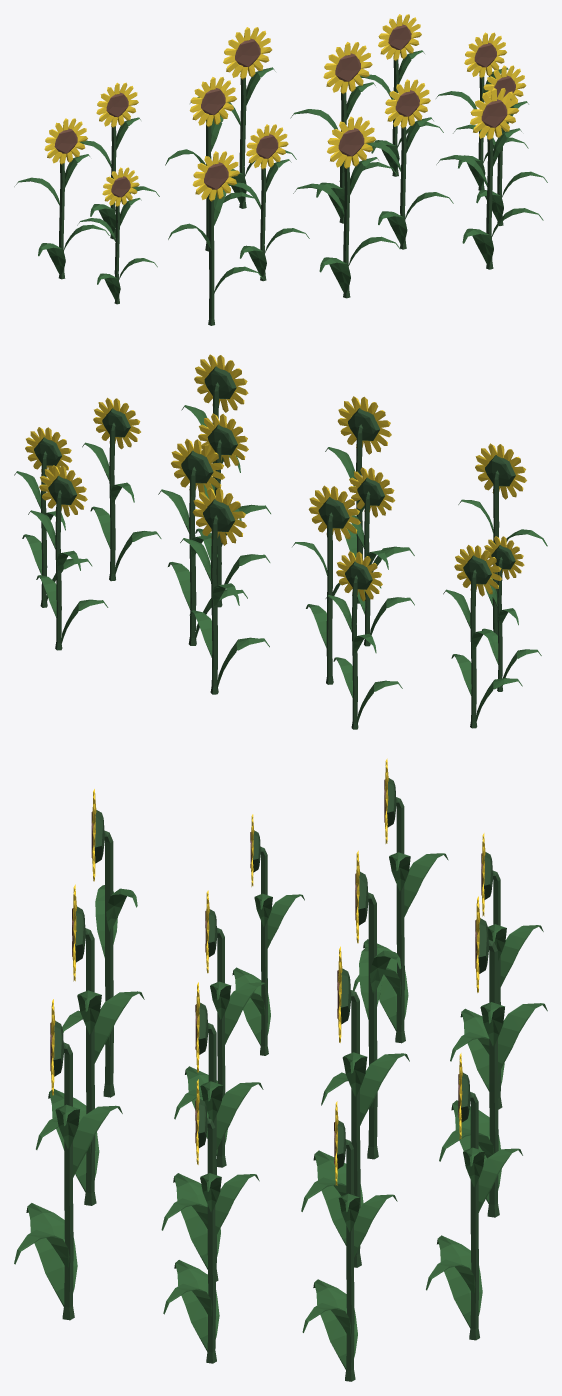
Rendered from Sun flowers.fbx.
The picture shows the model from 3 angles, top to bottom: view 1: azimuth 30°, elevation 25°; view 2: azimuth 150°, elevation 25°; view 3: azimuth 270°, elevation 25°; orthographic projection. The views are drawn at different scales.
Visible parts, largest first — view 1: Sunflower_01.013; view 2: Sunflower_01.013; view 3: Sunflower_01.013.
Part boxes in pixels (box(x1,y1,x2,y2)): Sunflower_01.013: box(14, 14, 547, 325); Sunflower_01.013: box(14, 354, 547, 729); Sunflower_01.013: box(14, 758, 547, 1381).
Size of the model in its own units: 757 by 281 by 432.
